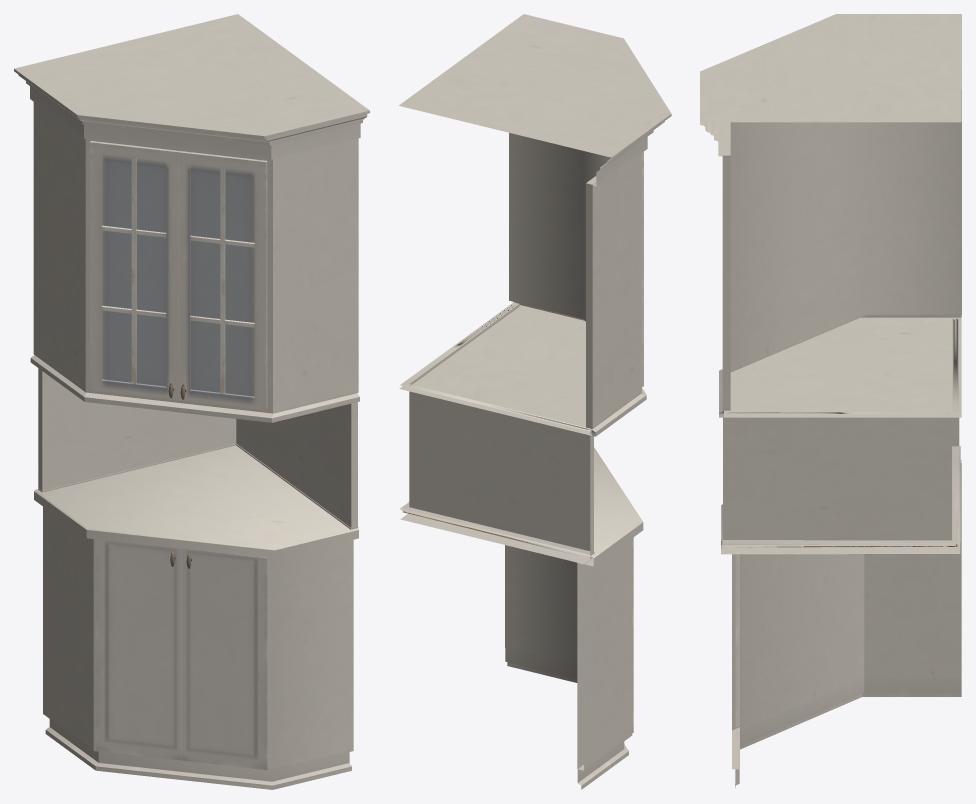
File: KitCabinet_Bar.FBX
The picture shows the model from 3 angles, left to right: view 1: azimuth 30°, elevation 25°; view 2: azimuth 150°, elevation 25°; view 3: azimuth 270°, elevation 25°; orthographic projection. The views are drawn at different scales.
Parts seen in each view (by area): view 1: KitCabinet_Bar; view 2: KitCabinet_Bar; view 3: KitCabinet_Bar.
Part boxes in pixels (left/top/right/bottom): KitCabinet_Bar: left=14, top=14, right=369, bottom=789; KitCabinet_Bar: left=398, top=14, right=671, bottom=789; KitCabinet_Bar: left=700, top=14, right=961, bottom=787.
Bounding box in the file's own units: 88.15 × 253 × 89.88.
